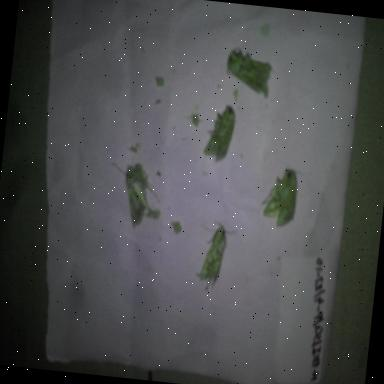abw: (102, 157, 168, 235), (190, 218, 240, 299), (257, 162, 308, 234), (220, 43, 278, 104), (198, 98, 242, 174)
